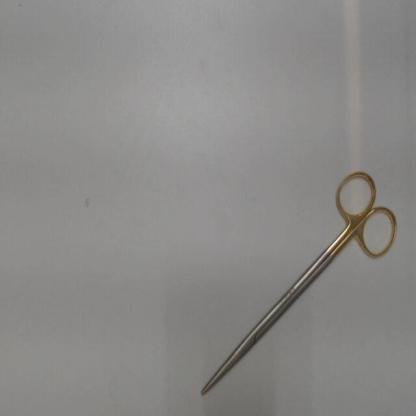7 Metzenbaum Scissors: (201, 167, 400, 398)
